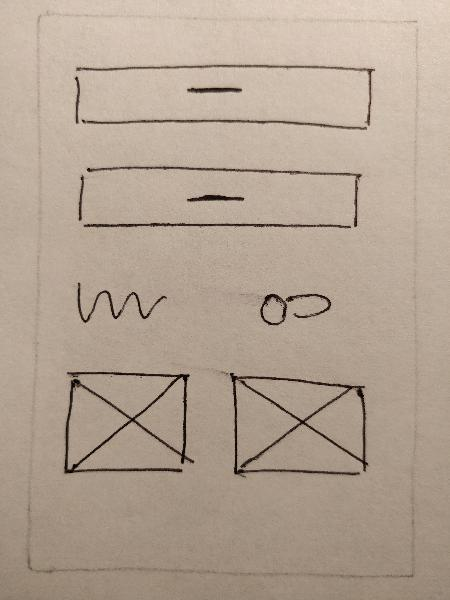button: (64, 57, 380, 137), (73, 158, 371, 239)
image: (222, 367, 383, 488), (52, 355, 203, 484)
switch: (239, 280, 344, 334)
text: (70, 270, 171, 334)
